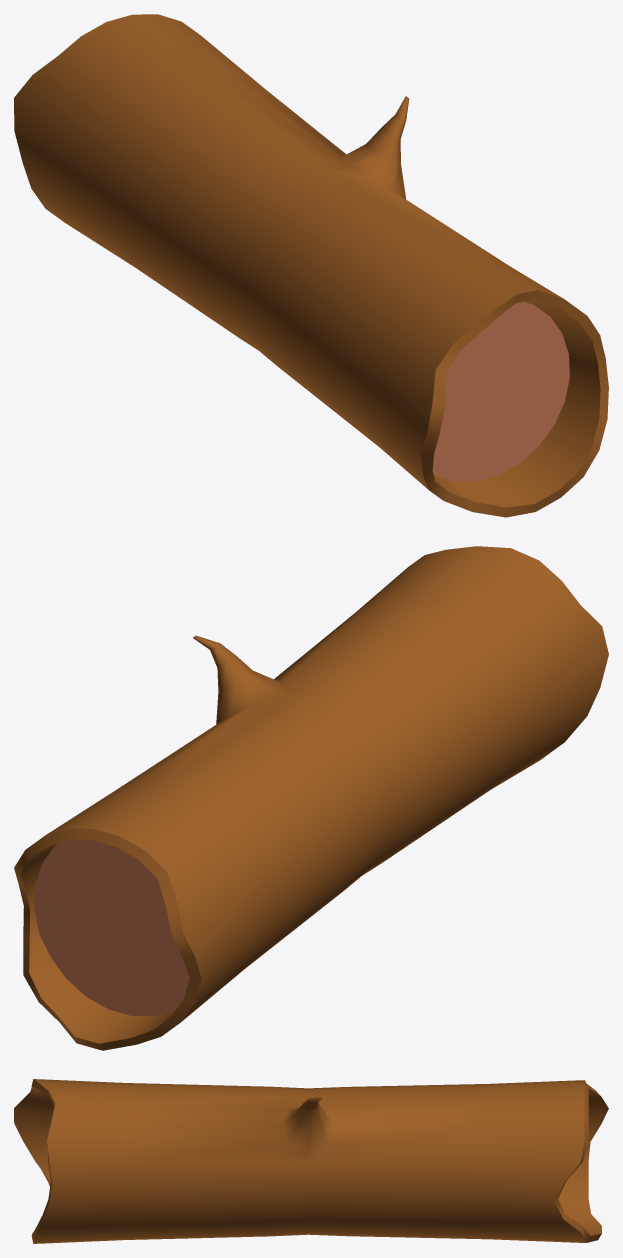
The model's file is SM_Log.fbx.
The picture shows the model from 3 angles, top to bottom: view 1: azimuth 30°, elevation 25°; view 2: azimuth 150°, elevation 25°; view 3: azimuth 270°, elevation 25°; orthographic projection. The views are drawn at different scales.
Visible parts, largest first — view 1: Log; view 2: Log; view 3: Log.
Boxes of the visible parts, x1=… form: Log: x1=14, y1=14, x2=608, y2=517; Log: x1=14, y1=546, x2=608, y2=1050; Log: x1=14, y1=1079, x2=608, y2=1243.
Size of the model in its own units: 106 by 29.37 by 33.88.
